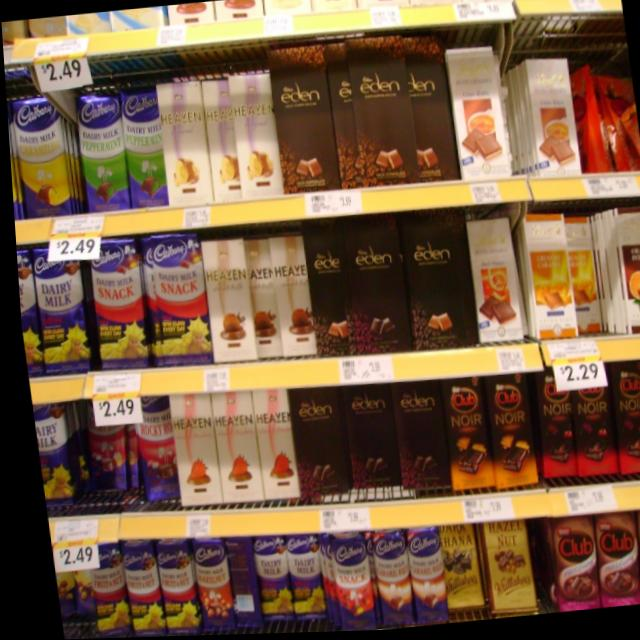q145: (25, 255, 96, 371), (242, 539, 285, 626), (272, 536, 316, 619)
q250: (203, 389, 259, 506), (245, 381, 297, 495), (162, 396, 214, 509)
